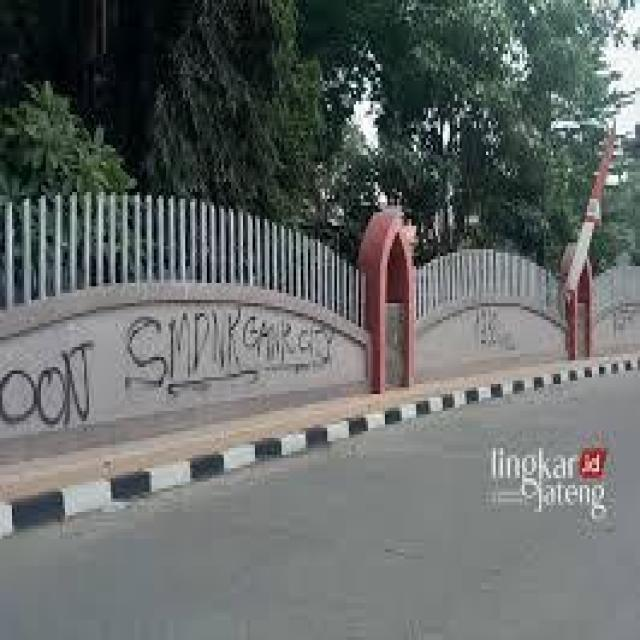nonspitting: (125, 310, 336, 396), (0, 340, 95, 427), (473, 306, 518, 351)
